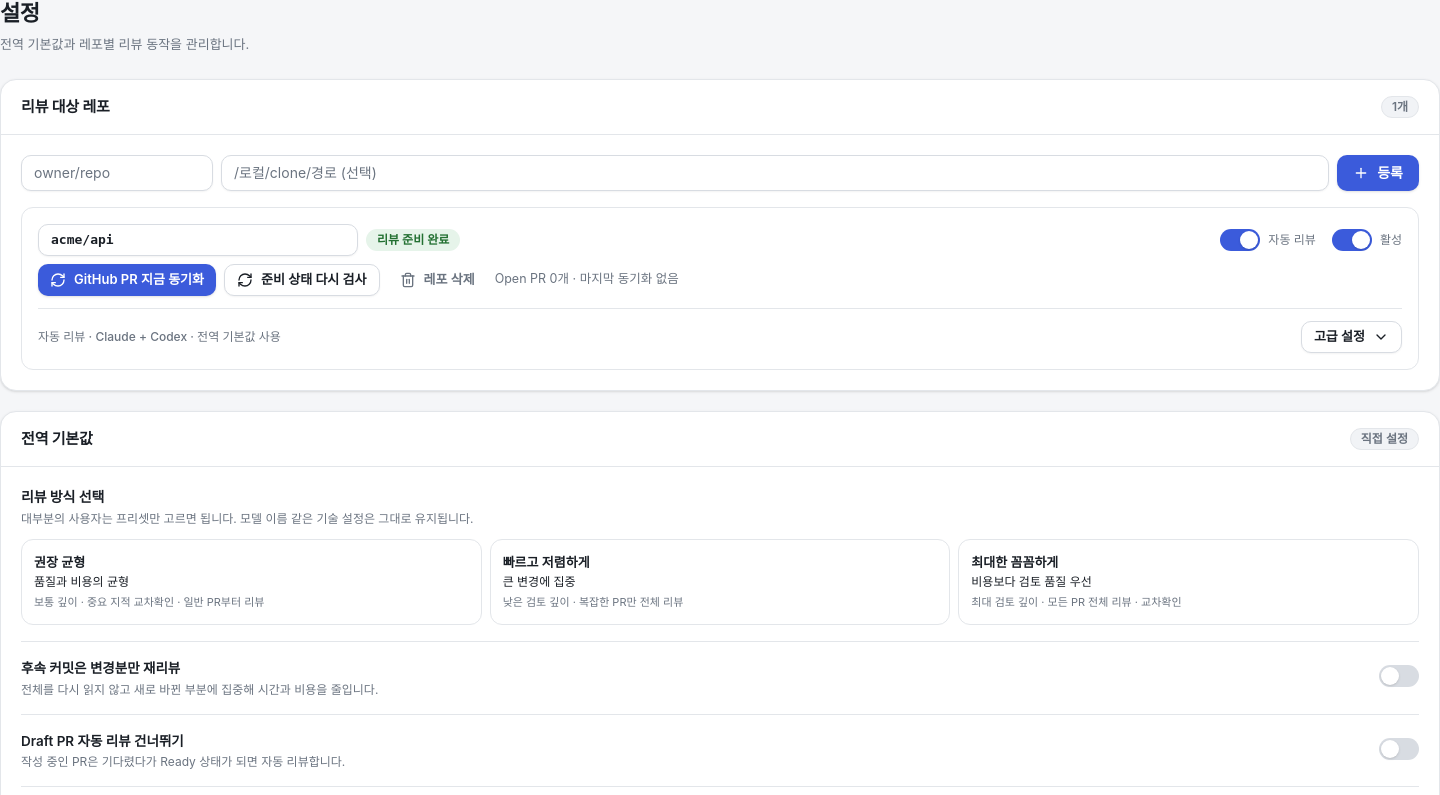
Scenario: keeps advanced repository settings collapsed and groups them when opened
Expected: the text "자동 리뷰 · Claude + Codex · 전역 기본값 사용" is shown, [38,329,281,345]
Click the button "고급 설정" in the row of "자동 리뷰 · Claude + Codex · 전역 기본값 사용" at (1351, 337), box [1301,321,1402,353]
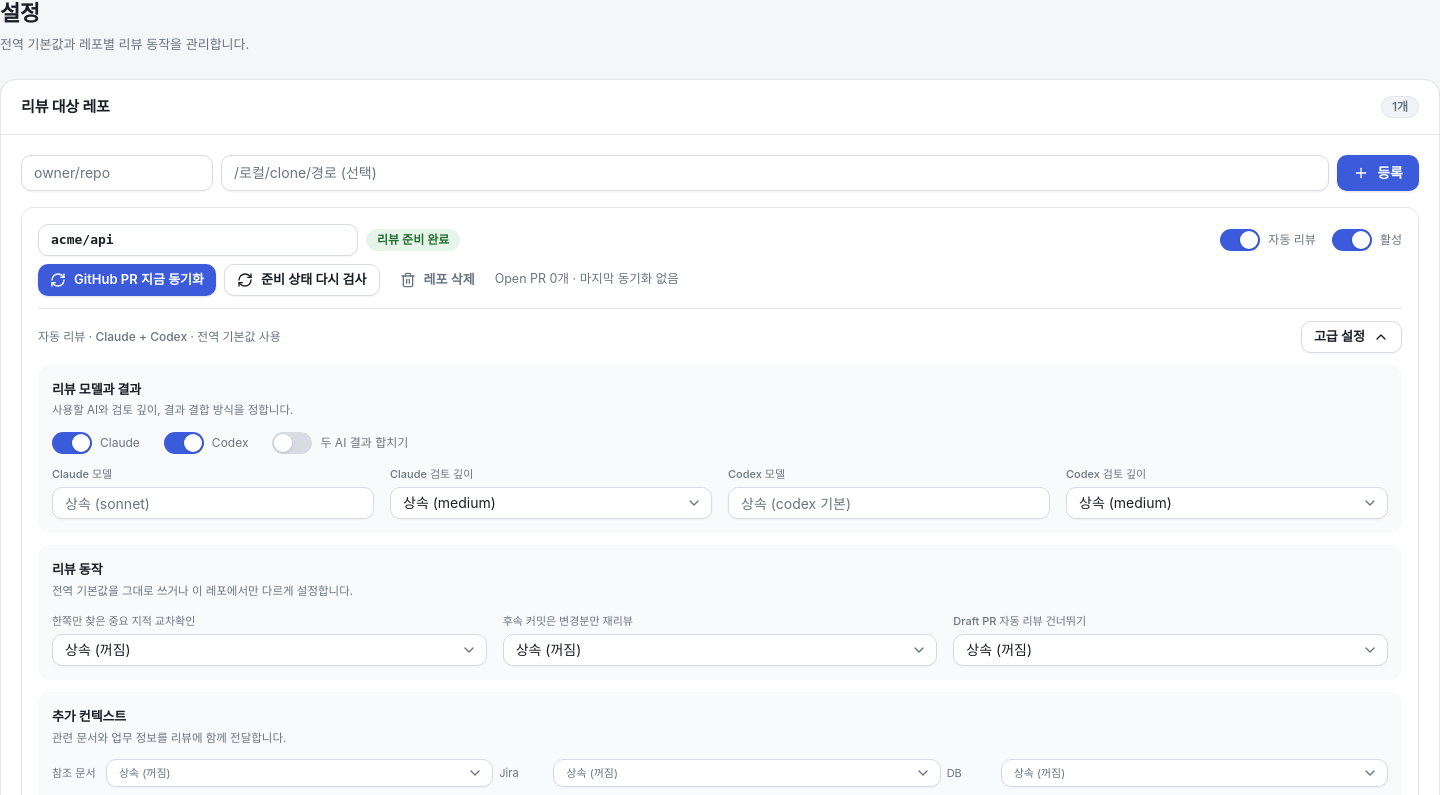
Expected: the heading "리뷰 모델과 결과" is shown, [52,381,141,397]
Expected: the heading "리뷰 동작" is shown, [52,561,102,577]
Expected: the heading "추가 컨텍스트" is shown, [52,708,126,724]
